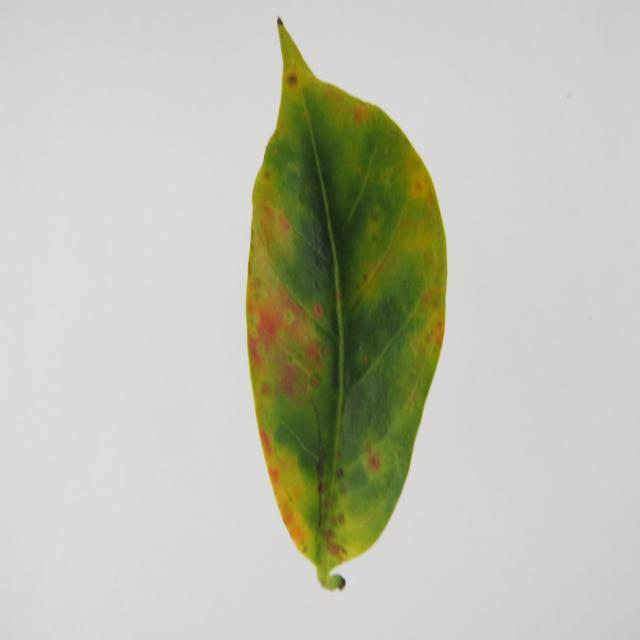DeficienciaNutricional-Fosforo: (246, 18, 446, 590)
